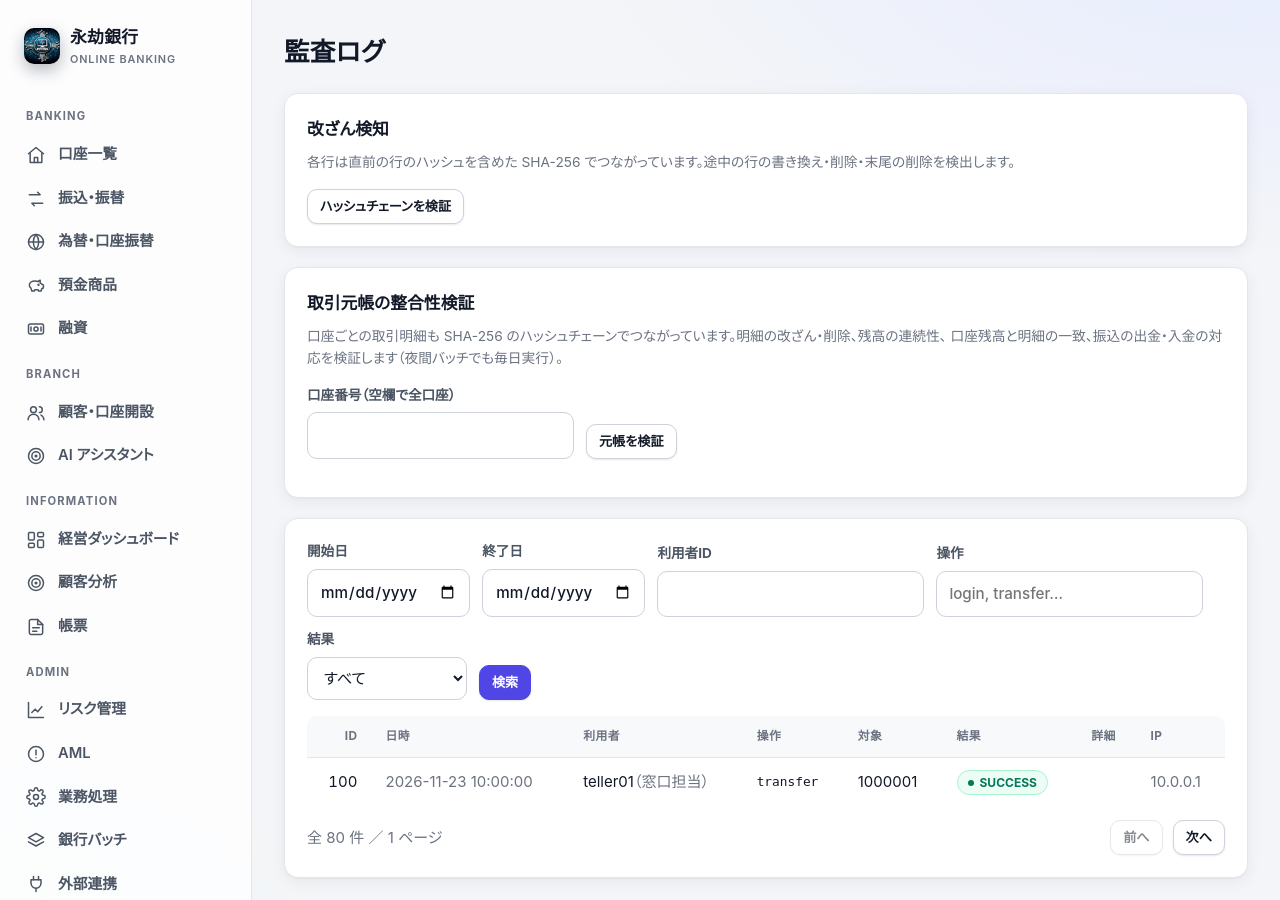
AuditPage › 元帳検証：口座番号を指定して実行し、不整合を一覧する
The width and height of the screenshot is (1280, 900).
Type "1000001" into the field labelled "口座番号（空欄で全口座）".
click(440, 436); type("1000001")  # box top-left (307, 412), bottom-right (574, 459)
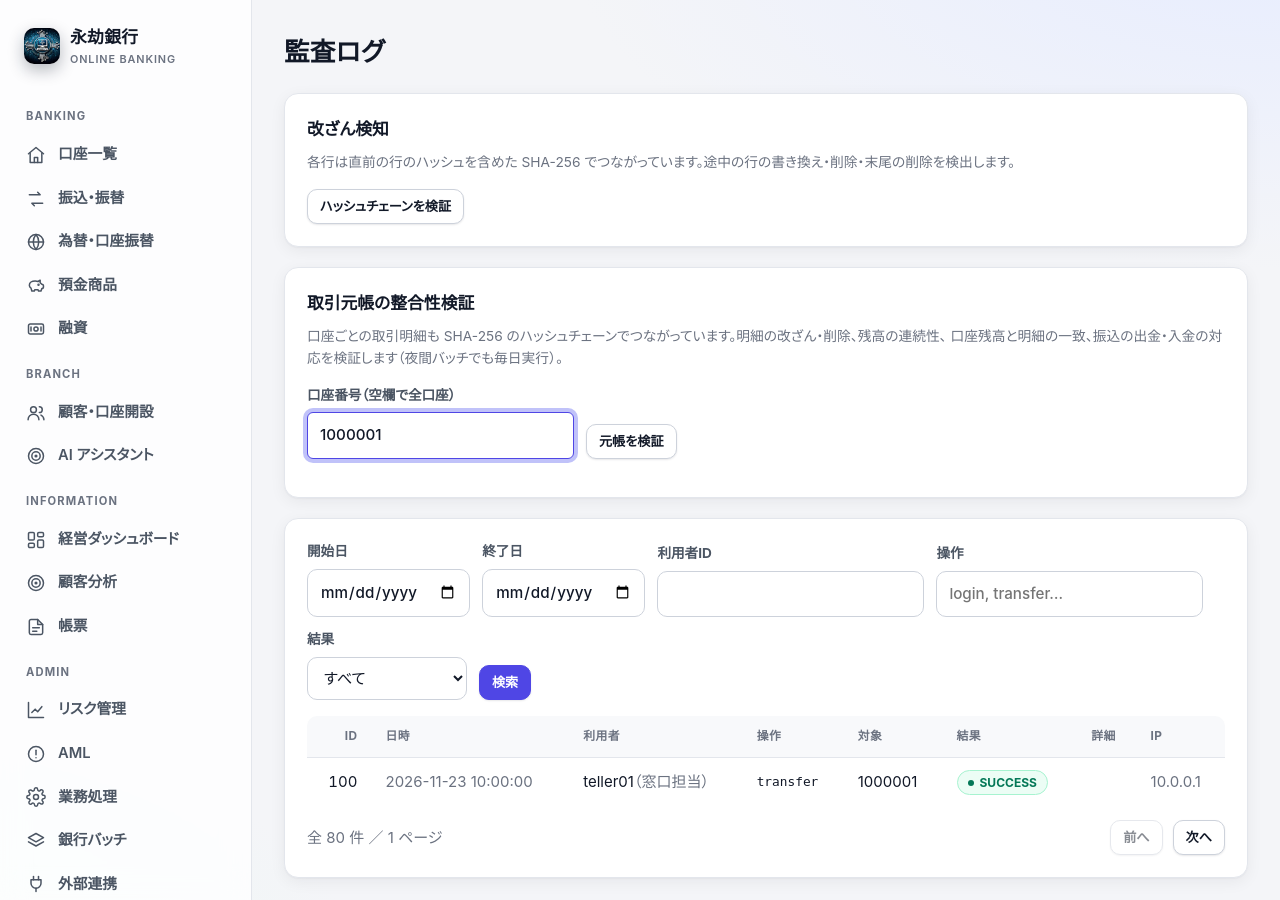
Click the button "元帳を検証".
click(631, 441)  # box top-left (586, 424), bottom-right (676, 459)
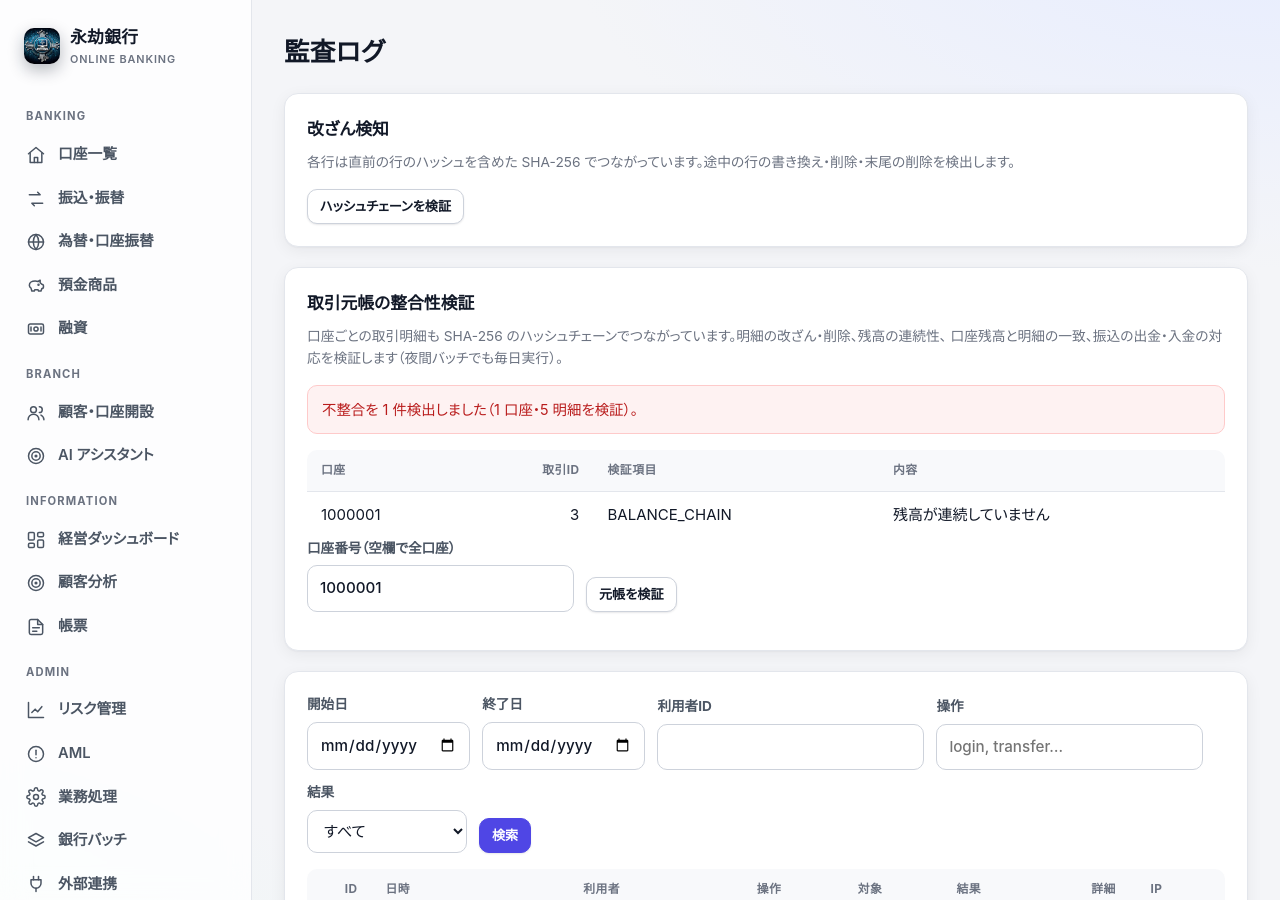
Expected: the text "不整合を 1 件検出しました（1 口座・5 明細を検証）。" is shown, top-left (307, 385), bottom-right (1225, 434)
Expected: the text "残高が連続していません" is shown, top-left (879, 492), bottom-right (1225, 538)
